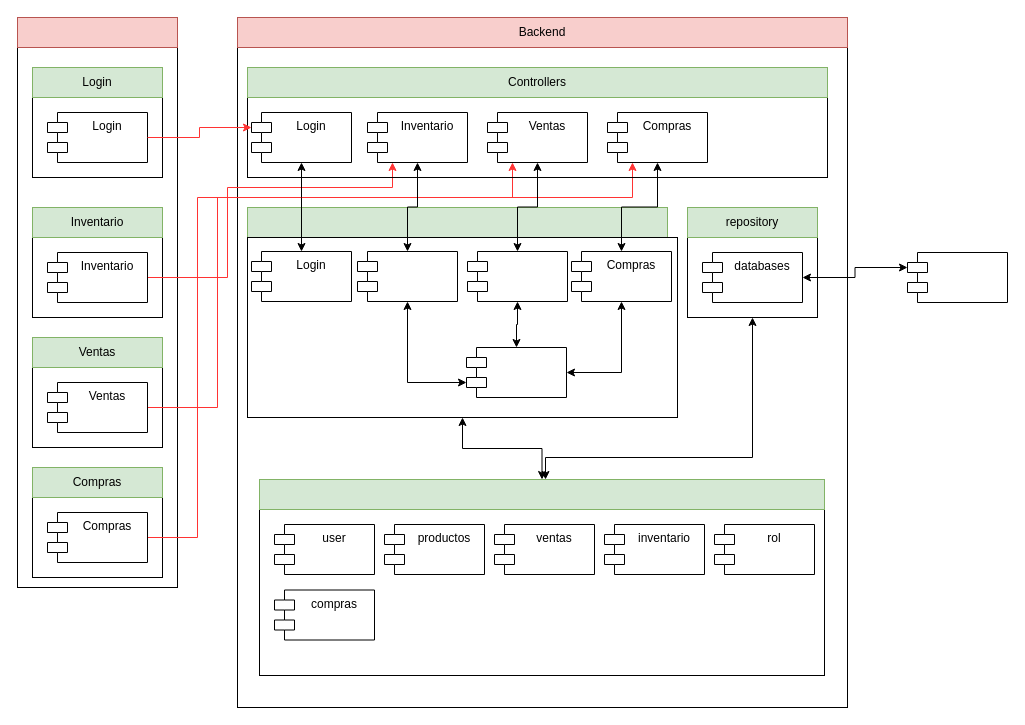
Image size: 1025x725. Some labels were removed from this diagram. Here are the shapes that lost their labels. From the top down, the centre of each, then its label:
(x=97, y=32): Frontend
(x=457, y=222): Services
(x=407, y=276): Invent
(x=517, y=276): Venta
(x=957, y=277): Mysql
(x=516, y=372): Authorization
(x=541, y=494): Domain
